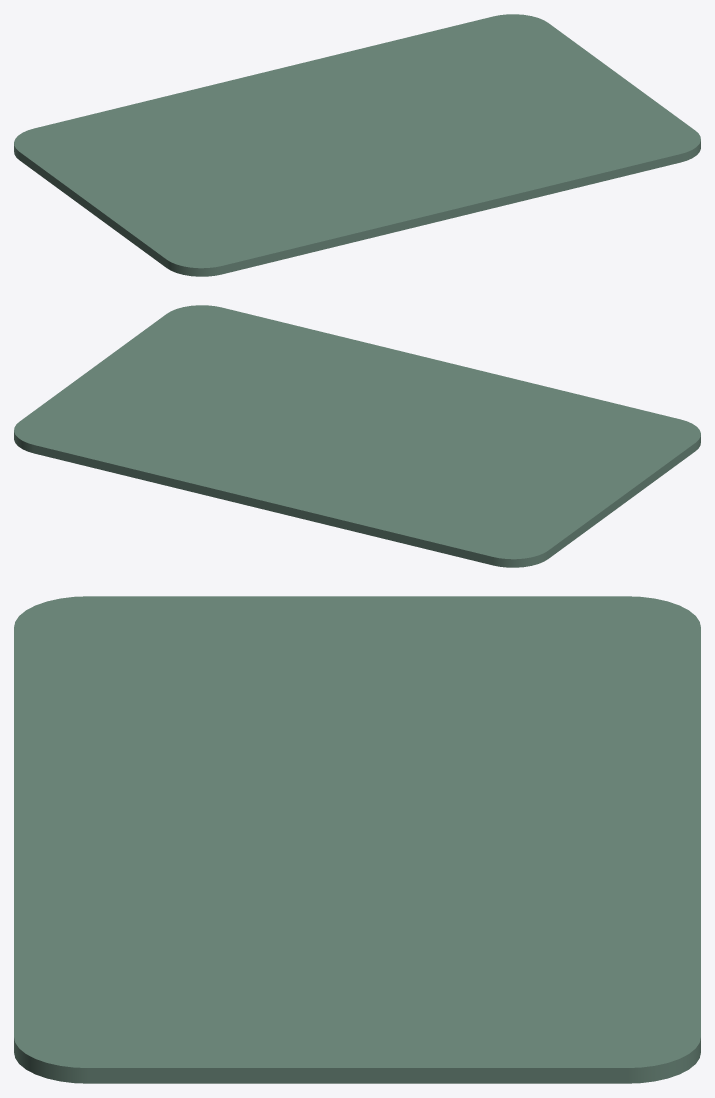
Rendered from bathroom-bath-mat.gltf.
3 renders of one model, top to bottom at view 1: azimuth 30°, elevation 25°; view 2: azimuth 150°, elevation 25°; view 3: azimuth 270°, elevation 25°, orthographic. The views are drawn at different scales.
Visible parts, largest first — view 1: Bathroom woven bath mat; view 2: Bathroom woven bath mat; view 3: Bathroom woven bath mat.
Boxes of the visible parts, x1,y1,x2,y2 form: Bathroom woven bath mat: (14,14,700,276); Bathroom woven bath mat: (14,305,700,567); Bathroom woven bath mat: (14,596,700,1083).
Size of the model in its own units: 0.91 by 0.014 by 0.56.
